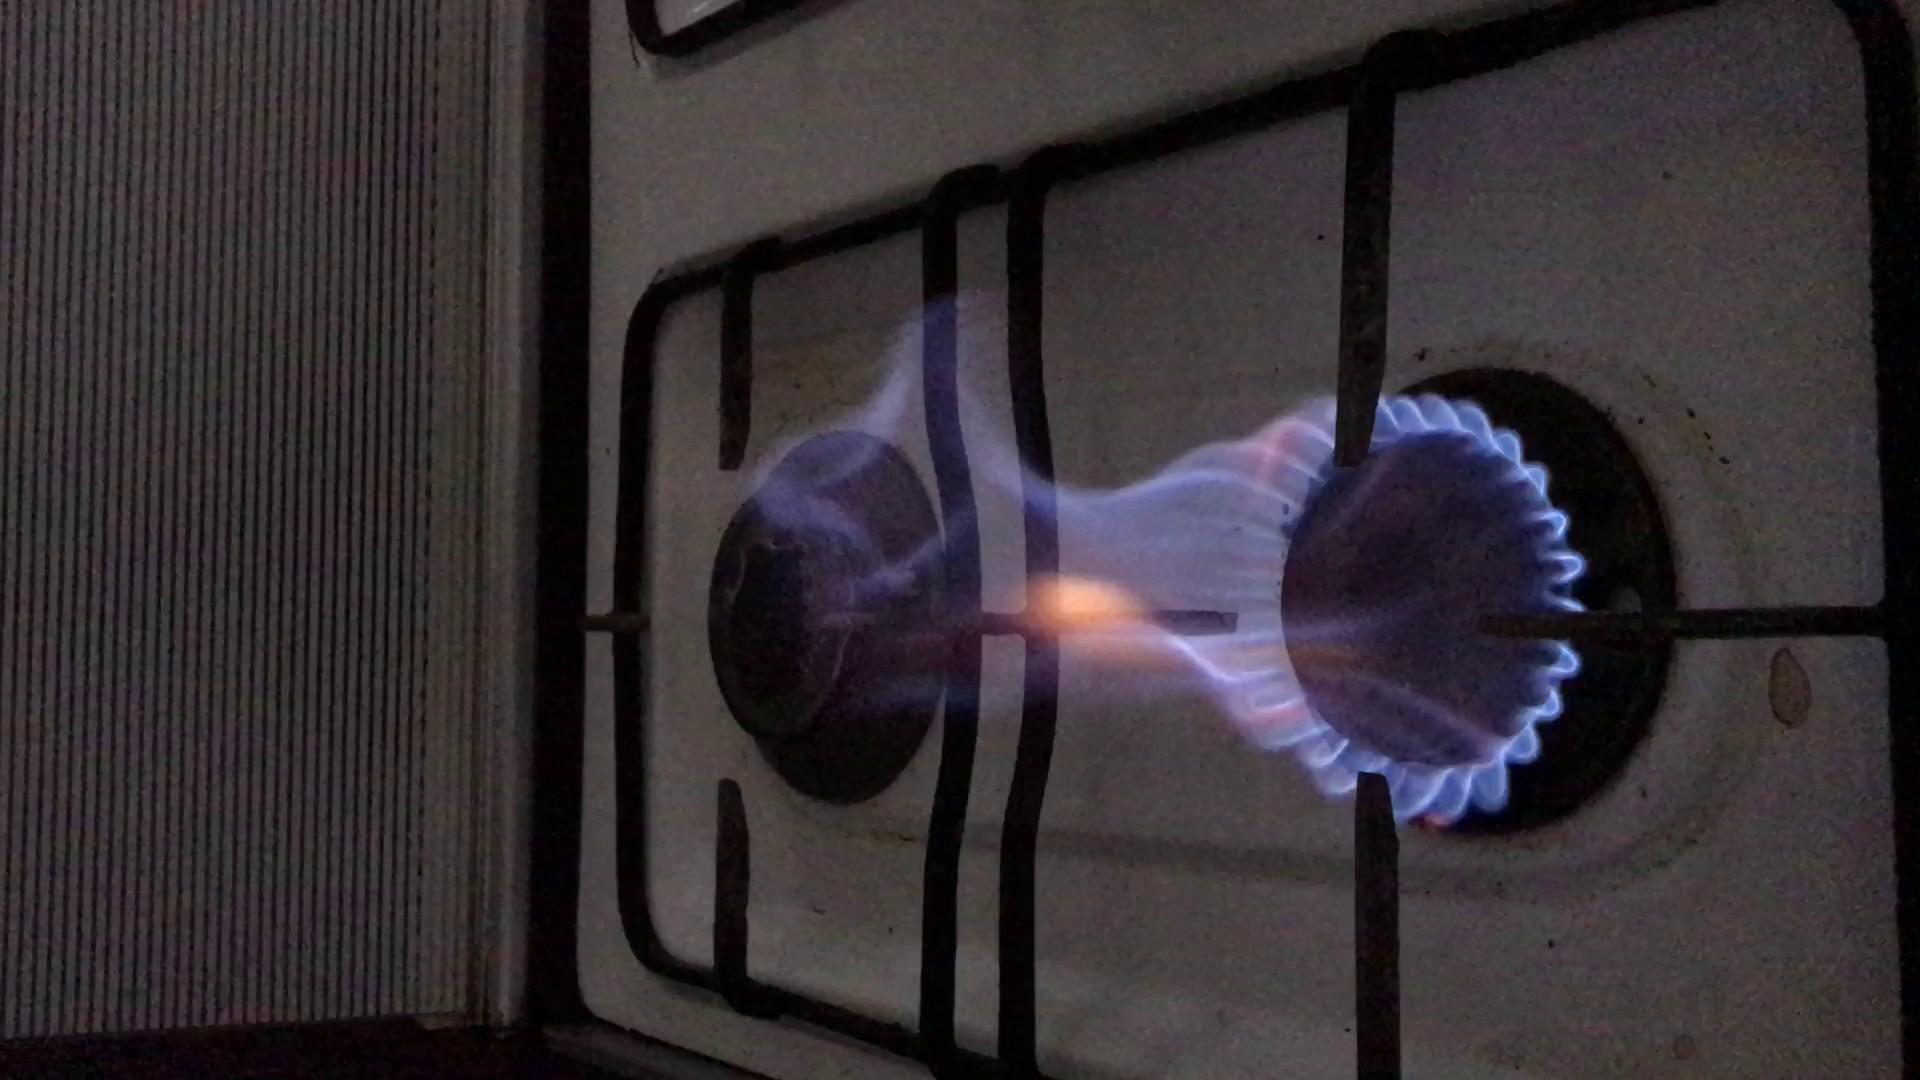fire: (804, 388, 1580, 804)
